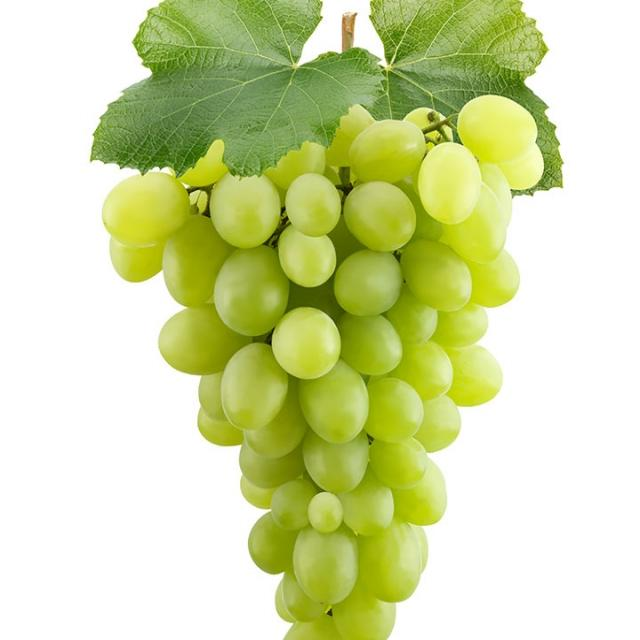grape: (101, 10, 548, 640)
